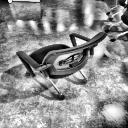chair_success: (15, 30, 109, 101)
